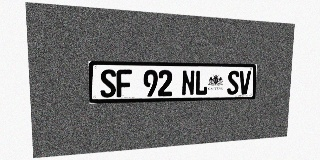2: (158, 70, 172, 96)
9: (143, 70, 158, 97)
F: (116, 69, 132, 97)
L: (195, 70, 208, 95)
N: (181, 70, 195, 96)
S: (100, 69, 116, 98), (227, 71, 239, 95)
V: (239, 71, 251, 94)
